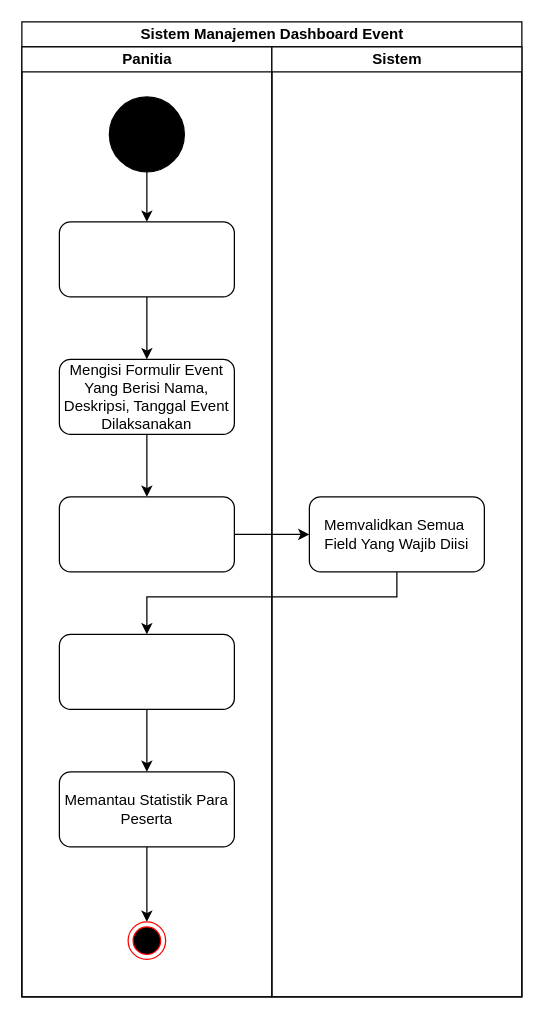
Image size: 544x1019. Some labels were removed from this diagram. The shapes that lost their labels are listed below. From the top down, each one's centre as x and y in pixels, then its label:
At point (146, 259): "Membuka Dashboard Pengelola Dan Memilih Buat Event Baru".
At point (146, 534): "Mengunggah Poster Atau Banner Event".
At point (146, 671): "Menekan Publikasi Dan Event Tampil Di Katalog Mahasiswa".
